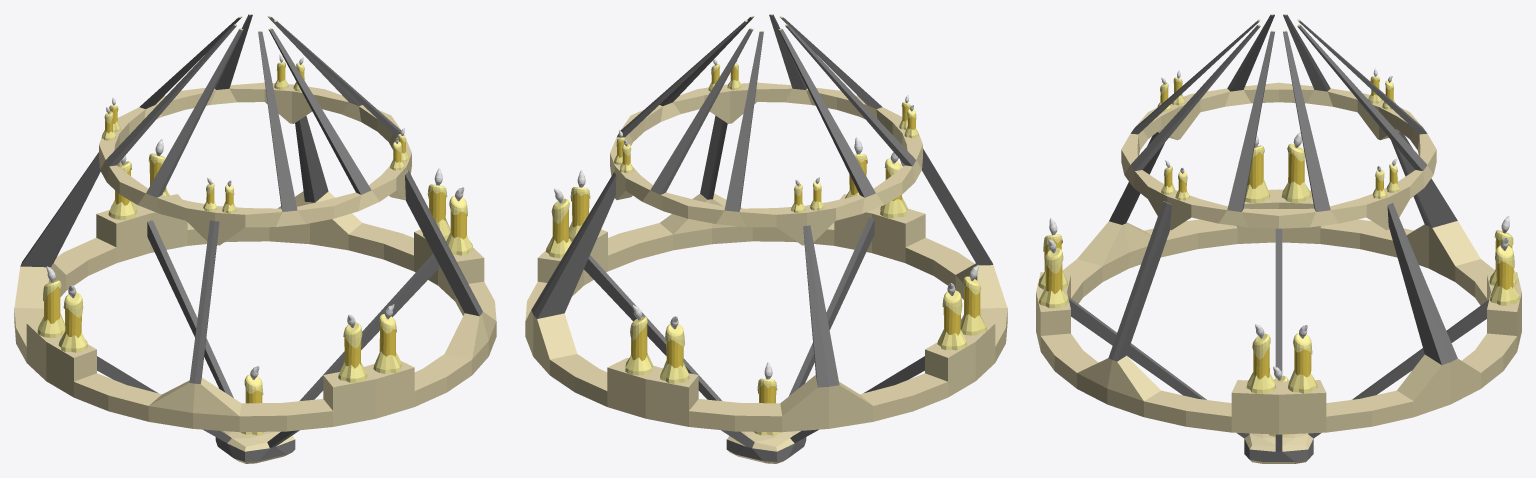
Rendered from graveyardChandeliers.fbx.
3 renders of one model, left to right at view 1: azimuth 30°, elevation 25°; view 2: azimuth 150°, elevation 25°; view 3: azimuth 270°, elevation 25°, orthographic.
Parts seen in each view (by area): view 1: Circle, Cylinder.004, Cylinder.007, Cylinder.005, Cylinder.006, Cylinder.001, Cylinder, Cylinder.002, Cylinder.016; view 2: Circle, Cylinder.002, Cylinder.005, Cylinder.003, Cylinder.004, Cylinder, Cylinder.001, Cylinder.007, Cylinder.016; view 3: Circle, Cylinder.003, Cylinder, Cylinder.006, Cylinder.001, Cylinder.005, Cylinder.004, Cylinder.007, Cylinder.002.
Boxes of the visible parts, x1,y1,x2,y2 form: Circle: [14, 14, 496, 463]; Cylinder.004: [58, 285, 87, 352]; Cylinder.007: [338, 314, 367, 382]; Cylinder.005: [37, 266, 65, 337]; Cylinder.006: [373, 304, 402, 373]; Cylinder.001: [446, 187, 473, 255]; Cylinder: [423, 168, 450, 239]; Cylinder.002: [108, 155, 137, 219]; Cylinder.016: [241, 365, 263, 435]; Circle: [525, 14, 1007, 463]; Cylinder.002: [660, 316, 689, 383]; Cylinder.005: [937, 283, 966, 350]; Cylinder.003: [625, 305, 652, 375]; Cylinder.004: [960, 265, 987, 335]; Cylinder: [546, 188, 571, 258]; Cylinder.001: [569, 170, 590, 241]; Cylinder.007: [880, 152, 907, 218]; Cylinder.016: [753, 362, 780, 435]; Circle: [1036, 14, 1521, 463]; Cylinder.003: [1490, 237, 1519, 305]; Cylinder: [1288, 325, 1317, 393]; Cylinder.006: [1039, 239, 1068, 308]; Cylinder.001: [1246, 324, 1276, 393]; Cylinder.005: [1281, 132, 1311, 202]; Cylinder.004: [1245, 136, 1270, 203]; Cylinder.007: [1038, 218, 1067, 289]; Cylinder.002: [1489, 216, 1518, 286].
Bounding box in the file's own units: 200 × 195 × 200.
